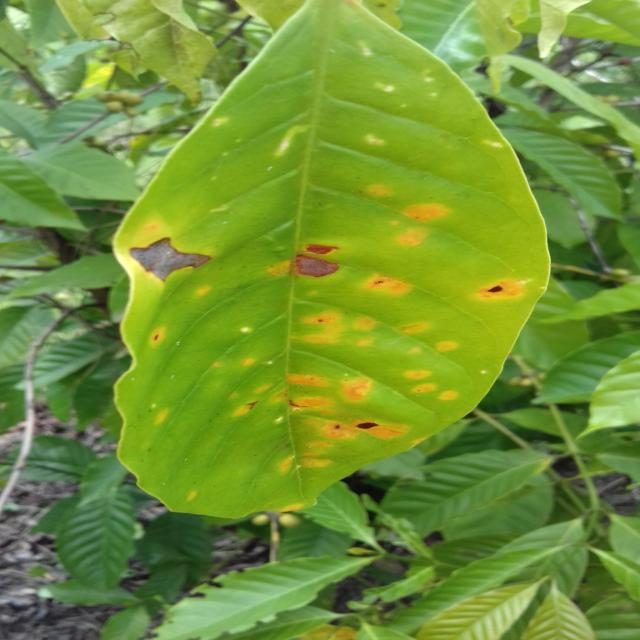Enfermedad-Roya: (111, 1, 551, 524)
